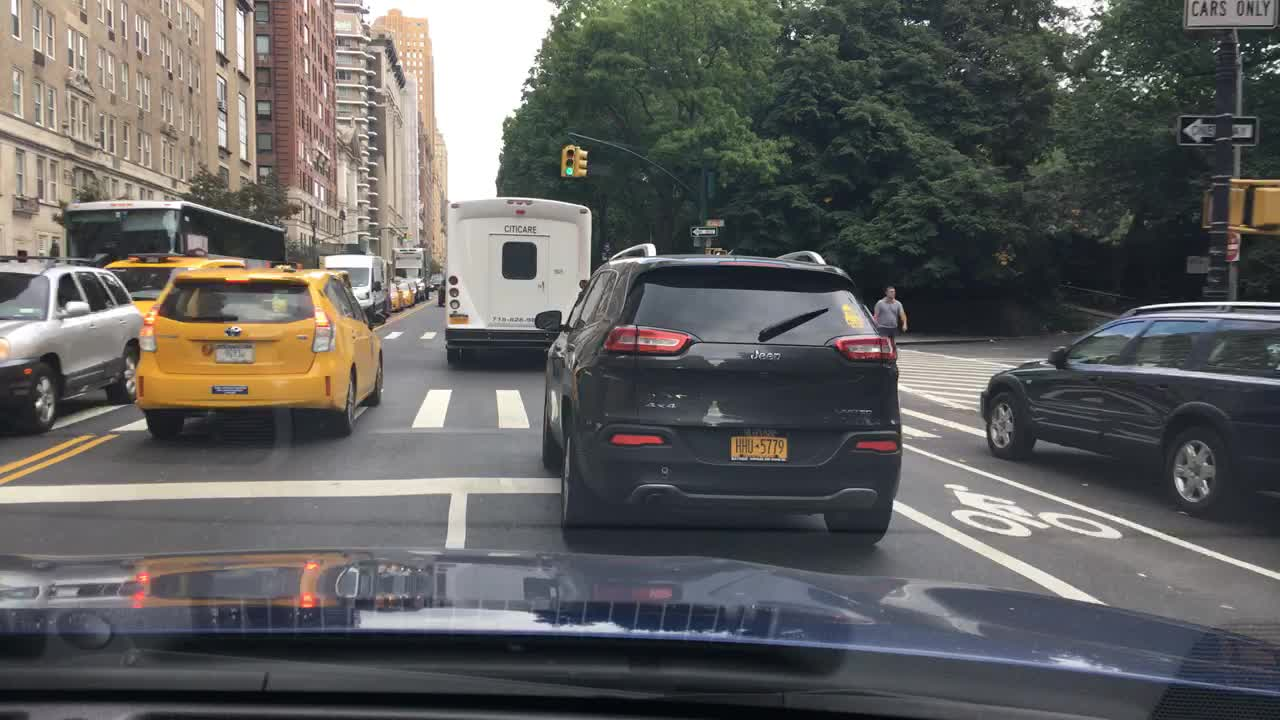bus: (59, 196, 287, 278)
car: (533, 241, 899, 547), (977, 300, 1279, 515), (131, 260, 383, 442), (0, 250, 141, 435), (104, 253, 212, 314), (395, 273, 415, 310), (388, 280, 403, 314), (403, 280, 418, 304), (427, 273, 444, 290), (435, 283, 445, 307), (415, 278, 427, 297)
person: (872, 285, 908, 354)
traffic light: (1198, 185, 1245, 229), (1248, 182, 1279, 233), (560, 145, 577, 179), (577, 147, 589, 179), (705, 245, 729, 255)
traffic sign: (1183, 0, 1277, 29), (1178, 115, 1259, 147), (1223, 234, 1238, 261), (688, 224, 715, 238), (705, 216, 725, 226)
truck: (442, 196, 590, 364), (319, 255, 388, 329), (388, 245, 432, 300)
